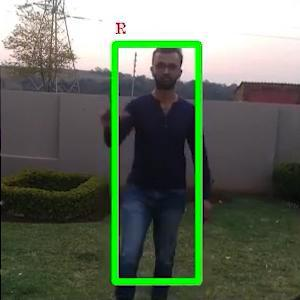land_hand: (93, 89, 131, 130)
